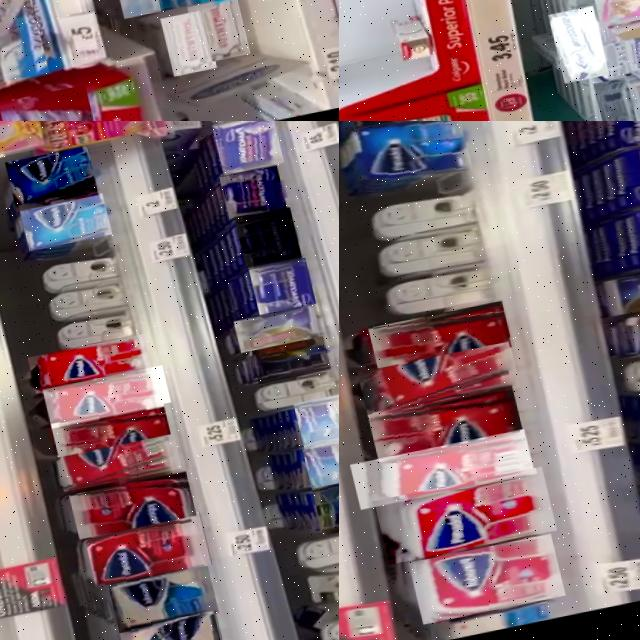Other: (364, 470, 550, 567), (340, 432, 530, 512), (397, 537, 557, 627), (350, 345, 515, 421), (359, 388, 517, 463), (361, 300, 511, 376), (75, 513, 207, 589), (339, 121, 471, 195), (61, 470, 191, 540), (36, 366, 166, 428), (98, 566, 211, 635), (22, 335, 148, 396), (48, 434, 176, 493), (44, 402, 166, 458), (3, 146, 98, 213), (15, 190, 110, 253), (228, 308, 317, 355), (210, 121, 283, 178), (231, 209, 299, 270), (244, 257, 313, 317), (40, 121, 177, 150), (245, 339, 326, 386), (217, 168, 285, 223), (108, 612, 219, 640), (287, 397, 339, 453), (294, 438, 339, 493), (0, 121, 40, 179), (304, 481, 339, 539)
Toothpaste: (540, 8, 601, 86), (151, 13, 208, 80), (372, 9, 433, 68), (0, 85, 90, 121), (583, 79, 632, 121), (618, 79, 640, 121), (402, 106, 454, 121)
